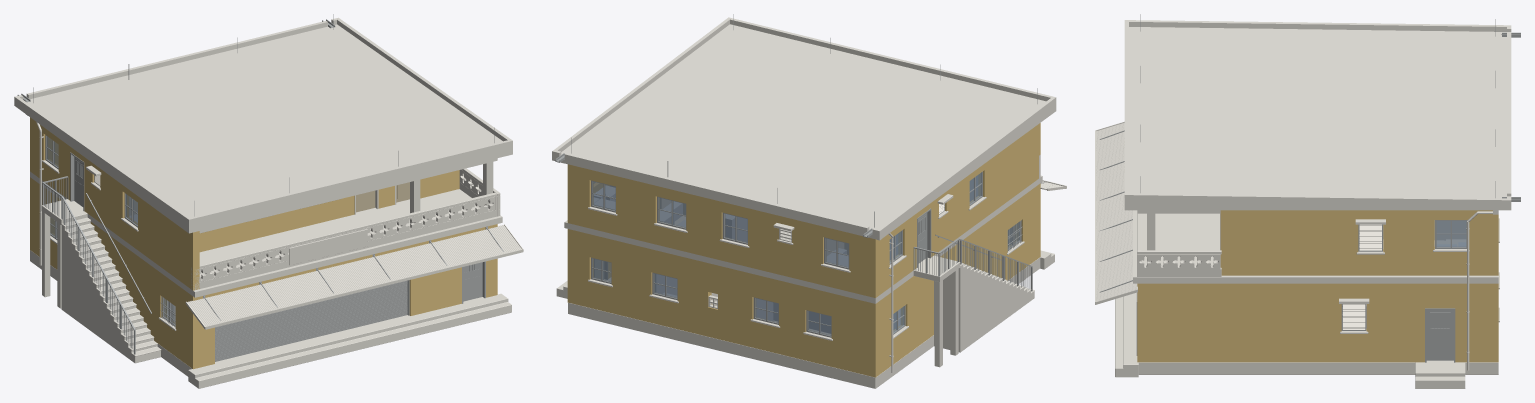
File: sarcelle_h06.glb
The picture shows the model from 3 angles, left to right: view 1: azimuth 30°, elevation 25°; view 2: azimuth 150°, elevation 25°; view 3: azimuth 270°, elevation 25°; orthographic projection. The views are drawn at different scales.
Parts seen in each view (by area): view 1: Shell_Roof_Slab, Shell_Wall_OG, Canopy_corrugated_rust, Shell_Wall_EG, Stair_Outer_concrete_cast, Shell_Foundation_Steps, Shell_Floor1_Slab, Loggia_Parapet_concrete_cast, DoorRoll_01, Railings_steel_painted_worn, Shell_Loggia_Frame, Sign_Empty (+7 smaller); view 2: Shell_Roof_Slab, Shell_Wall_EG, Shell_Wall_OG, Stair_Outer_concrete_cast, Windows_glass, Shell_Foundation_Steps, Shell_Floor1_Slab, Railings_steel_painted_worn, Windows_aluminium_weathered, WindowSills_Hoods_concrete_cast, Ph_bedroom3_bunk_bed_01, Downpipe_L; view 3: Shell_Roof_Slab, Shell_Wall_EG, Shell_Wall_OG, Shell_Floor1_Slab, Shell_Foundation_Steps, Canopy_corrugated_rust, Loggia_Parapet_concrete_cast, DoorLeaf_02_L_in, EntrancePodest_concrete_cast, WindowSlats_shutter_paint, WindowSills_Hoods_concrete_cast, Windows_glass (+3 smaller).
Boxes of the visible parts, x1,y1,x2,y2 form: Shell_Roof_Slab: [14, 17, 512, 233]; Shell_Wall_OG: [30, 117, 459, 290]; Canopy_corrugated_rust: [185, 224, 523, 329]; Shell_Wall_EG: [30, 177, 497, 369]; Stair_Outer_concrete_cast: [41, 199, 161, 363]; Shell_Foundation_Steps: [30, 250, 511, 388]; Shell_Floor1_Slab: [30, 171, 502, 297]; Loggia_Parapet_concrete_cast: [191, 168, 500, 290]; DoorRoll_01: [215, 280, 407, 361]; Railings_steel_painted_worn: [42, 176, 151, 354]; Shell_Loggia_Frame: [199, 158, 497, 233]; Sign_Empty: [289, 229, 367, 265]; Shell_Roof_Slab: [552, 17, 1056, 240]; Shell_Wall_EG: [567, 183, 1040, 377]; Shell_Wall_OG: [567, 123, 1040, 297]; Stair_Outer_concrete_cast: [913, 255, 1034, 367]; Windows_glass: [592, 172, 1019, 335]; Shell_Foundation_Steps: [568, 250, 1054, 388]; Shell_Floor1_Slab: [564, 175, 1042, 303]; Railings_steel_painted_worn: [913, 234, 1032, 291]; Windows_aluminium_weathered: [591, 171, 1020, 337]; WindowSills_Hoods_concrete_cast: [588, 194, 1024, 340]; Ph_bedroom3_bunk_bed_01: [725, 214, 747, 241]; Downpipe_L: [877, 233, 893, 372]; Shell_Roof_Slab: [1124, 20, 1511, 210]; Shell_Wall_EG: [1137, 283, 1498, 362]; Shell_Wall_OG: [1220, 210, 1498, 275]; Shell_Floor1_Slab: [1133, 210, 1498, 283]; Shell_Foundation_Steps: [1115, 292, 1498, 377]; Canopy_corrugated_rust: [1095, 121, 1137, 304]; Loggia_Parapet_concrete_cast: [1137, 213, 1221, 276]; DoorLeaf_02_L_in: [1426, 310, 1453, 360]; EntrancePodest_concrete_cast: [1415, 362, 1465, 388]; WindowSlats_shutter_paint: [1342, 224, 1381, 329]; WindowSills_Hoods_concrete_cast: [1339, 218, 1499, 333]; Windows_glass: [1436, 221, 1466, 246].
Size of the model in its own units: 16.4 by 7.85 by 15.32.
